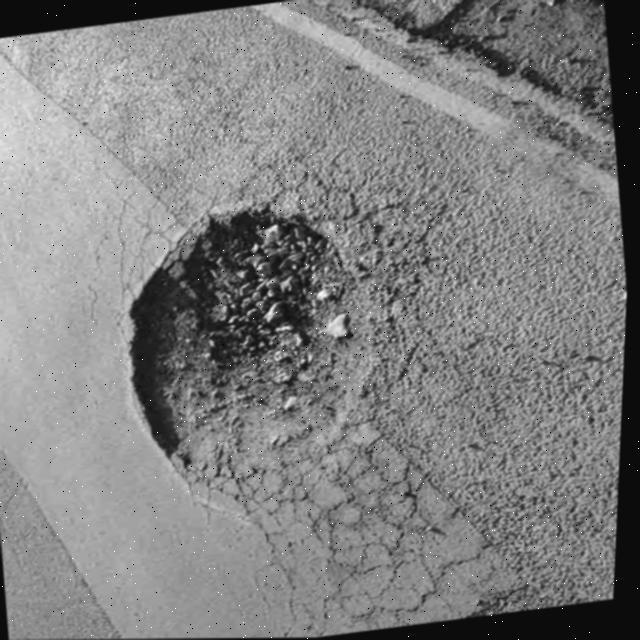pothole: (102, 191, 384, 474)
